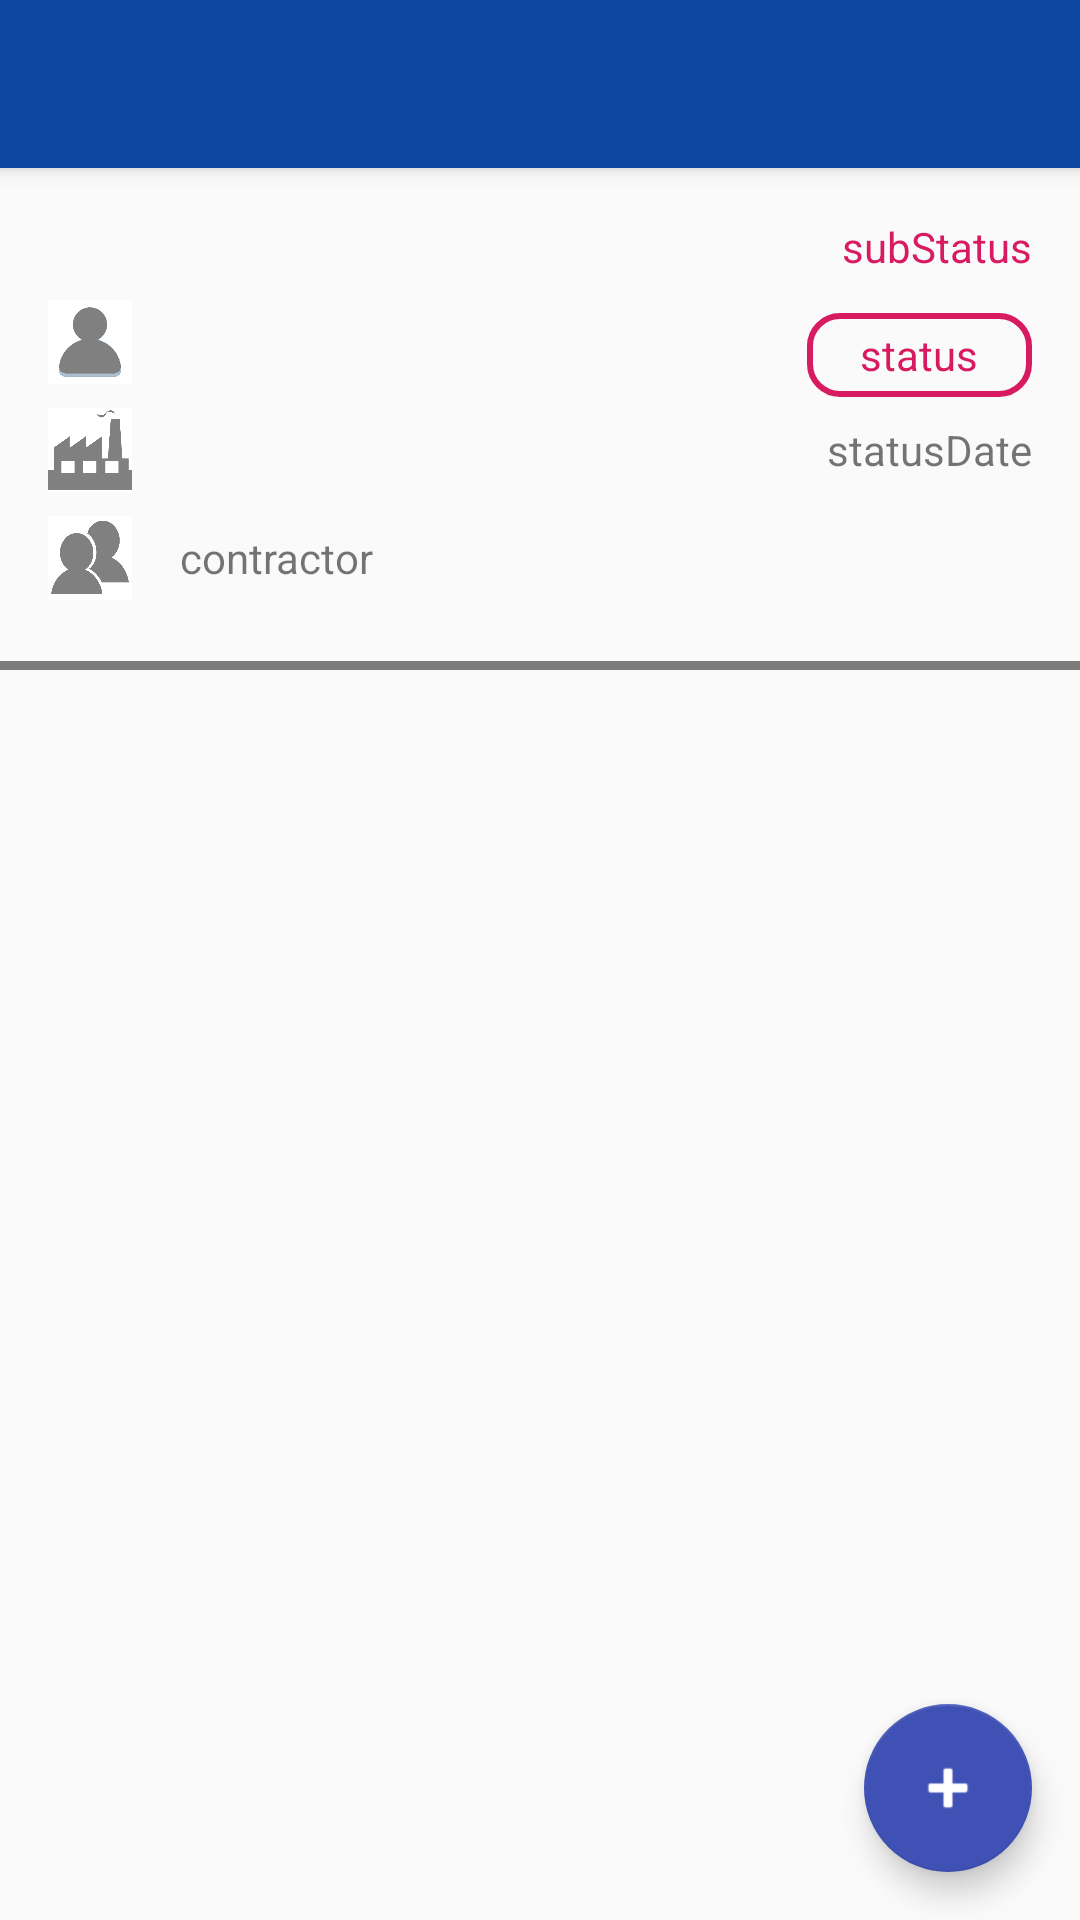

Named icons in this screenshot (1080×1920) and their centers, (x,y):
add: (948,1788)
factory: (90,450)
user: (90,342)
